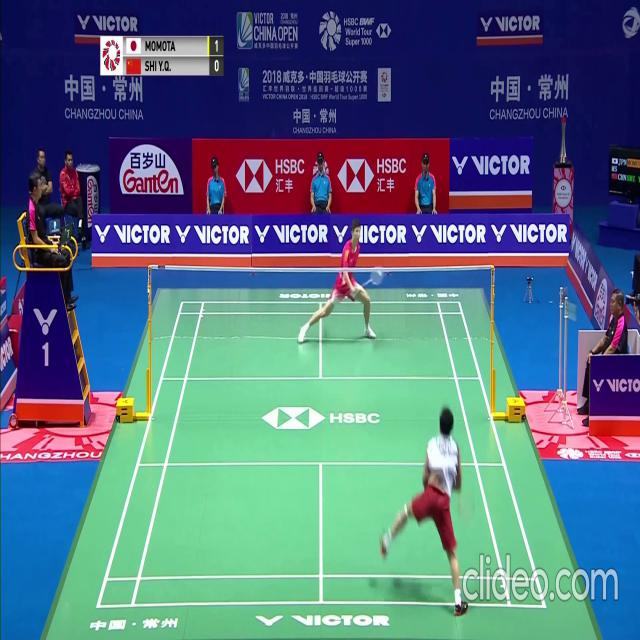Shuttlecock: (376, 269, 381, 277)
